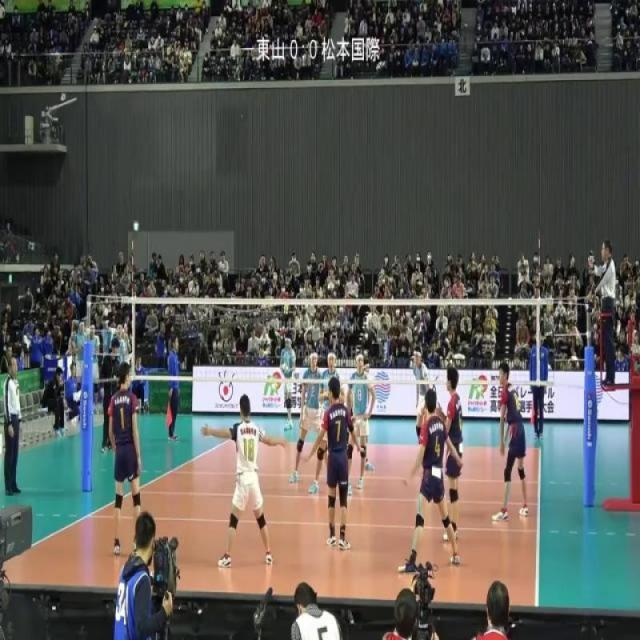volleyball: (280, 362, 288, 374)
